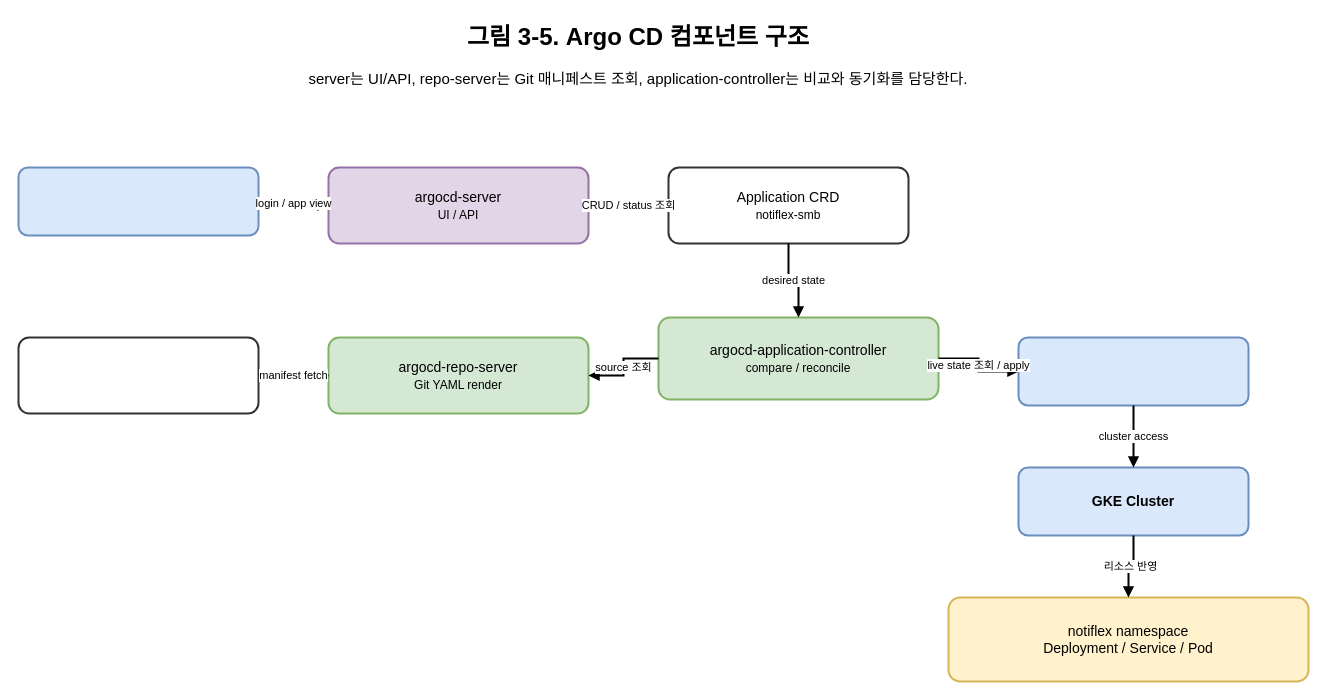
The diagram is 1326 pixels wide and 699 high, and some of its shapes have lost their labels. Each missing label, with the centre of its shape:
Browser / argocd CLI: the point at 138,201
Git Repository k8s/smb: the point at 138,375
Kubernetes API Server: the point at 1133,371
